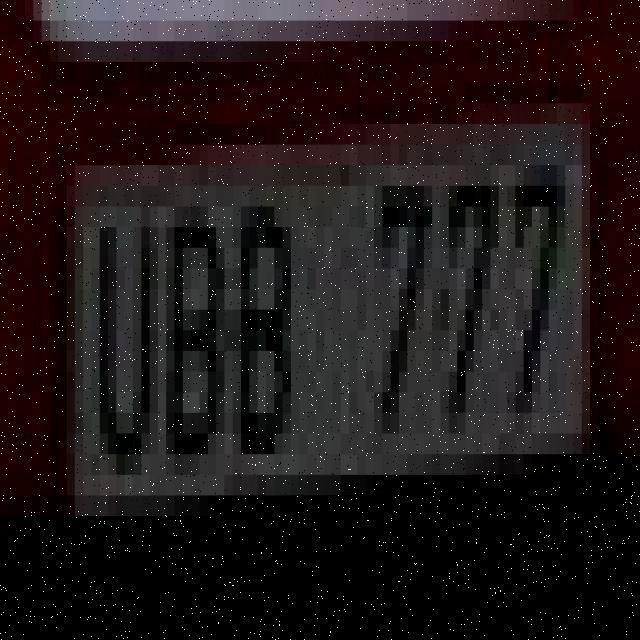LicensePlate: (31, 49, 611, 541)
